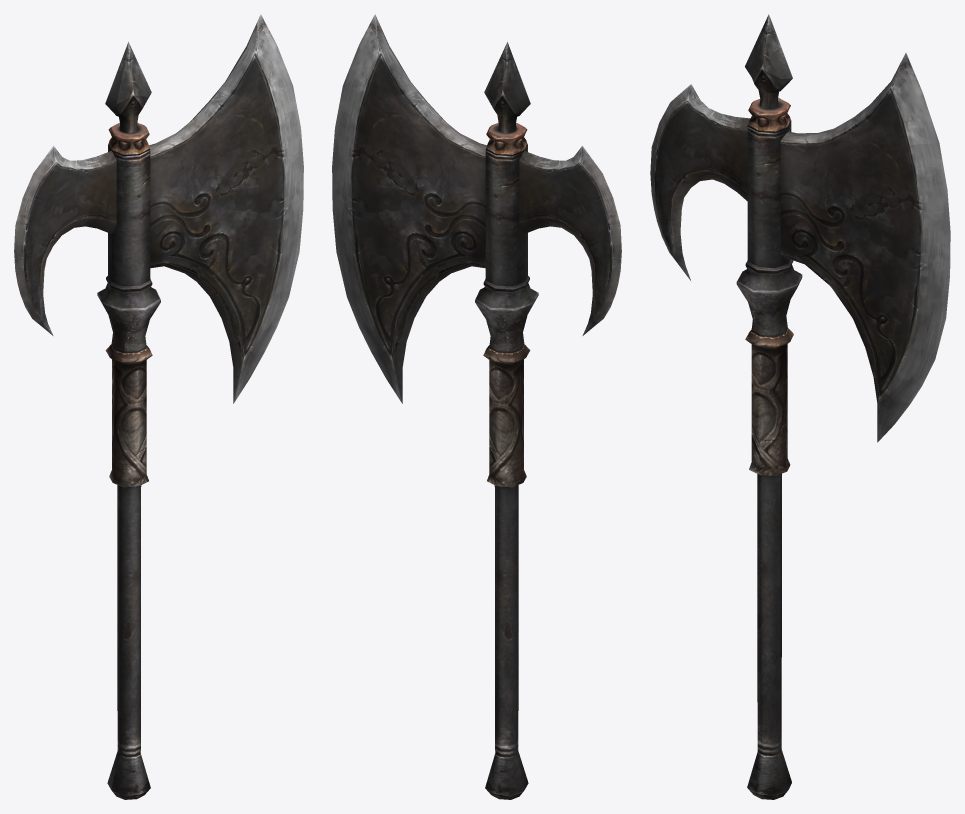
File: Weapon_104.fbx
3 views of the same model, side by side, from view 1: azimuth 30°, elevation 25°; view 2: azimuth 150°, elevation 25°; view 3: azimuth 330°, elevation 25° (orthographic). The views are drawn at different scales.
Visible parts, largest first — view 1: Weapon_104; view 2: Weapon_104; view 3: Weapon_104.
Boxes of the visible parts, x1,y1,x2,y2 form: Weapon_104: (14, 14, 303, 799); Weapon_104: (332, 14, 621, 799); Weapon_104: (650, 14, 950, 799).
Bounding box in the file's own units: 57.2 × 10.92 × 142.
